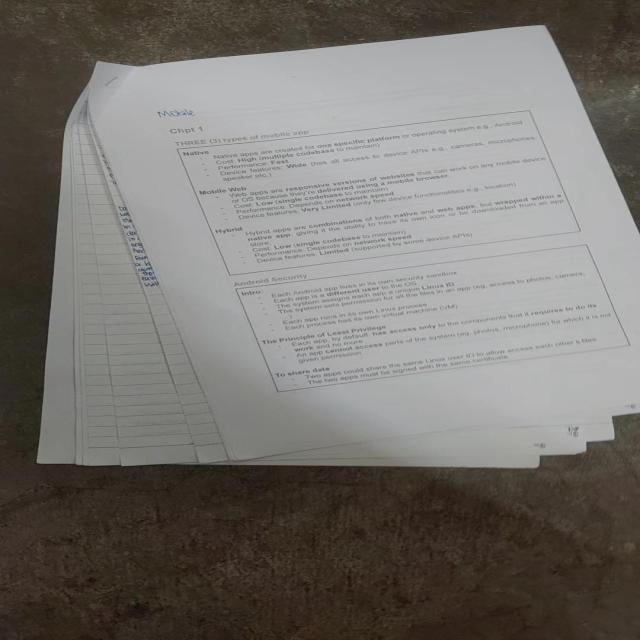paper: (48, 22, 640, 467)
